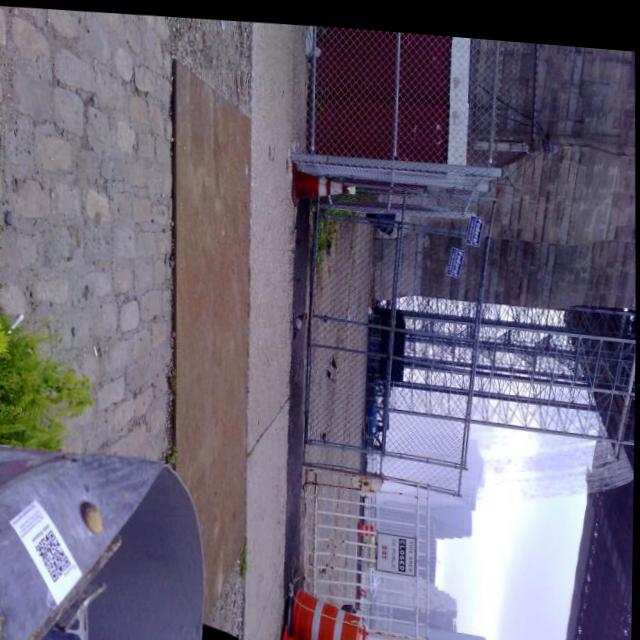qrcode: (35, 528, 72, 583)
